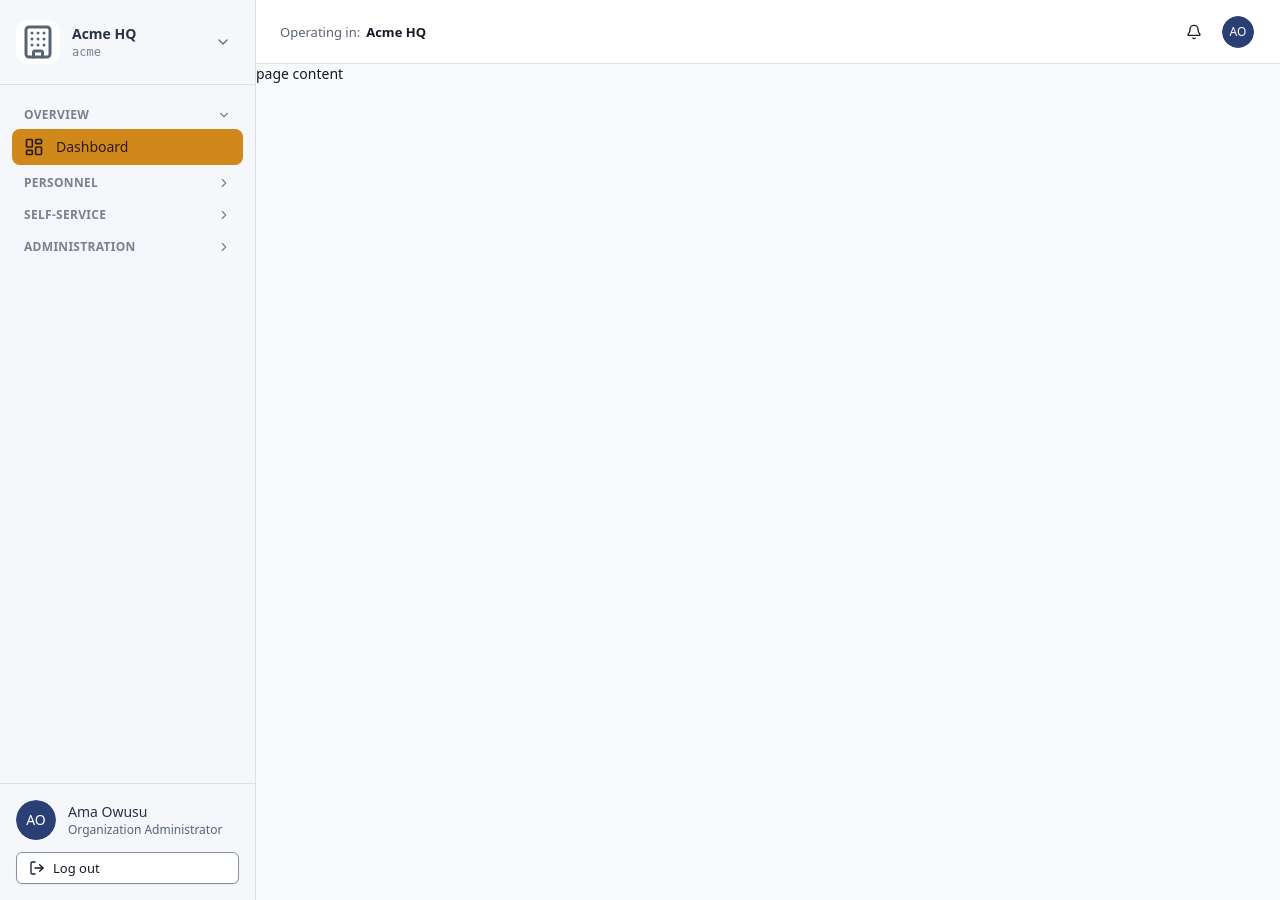
AppShell — sidebar/route authorization consistency (module-gated navigation) › keeps the WS-26 Forms navigation (not module-gated) intact
Step 1. Click the button with test id "button-nav-group-personnel" → (128, 183), box top-left (12, 169), bottom-right (243, 197)
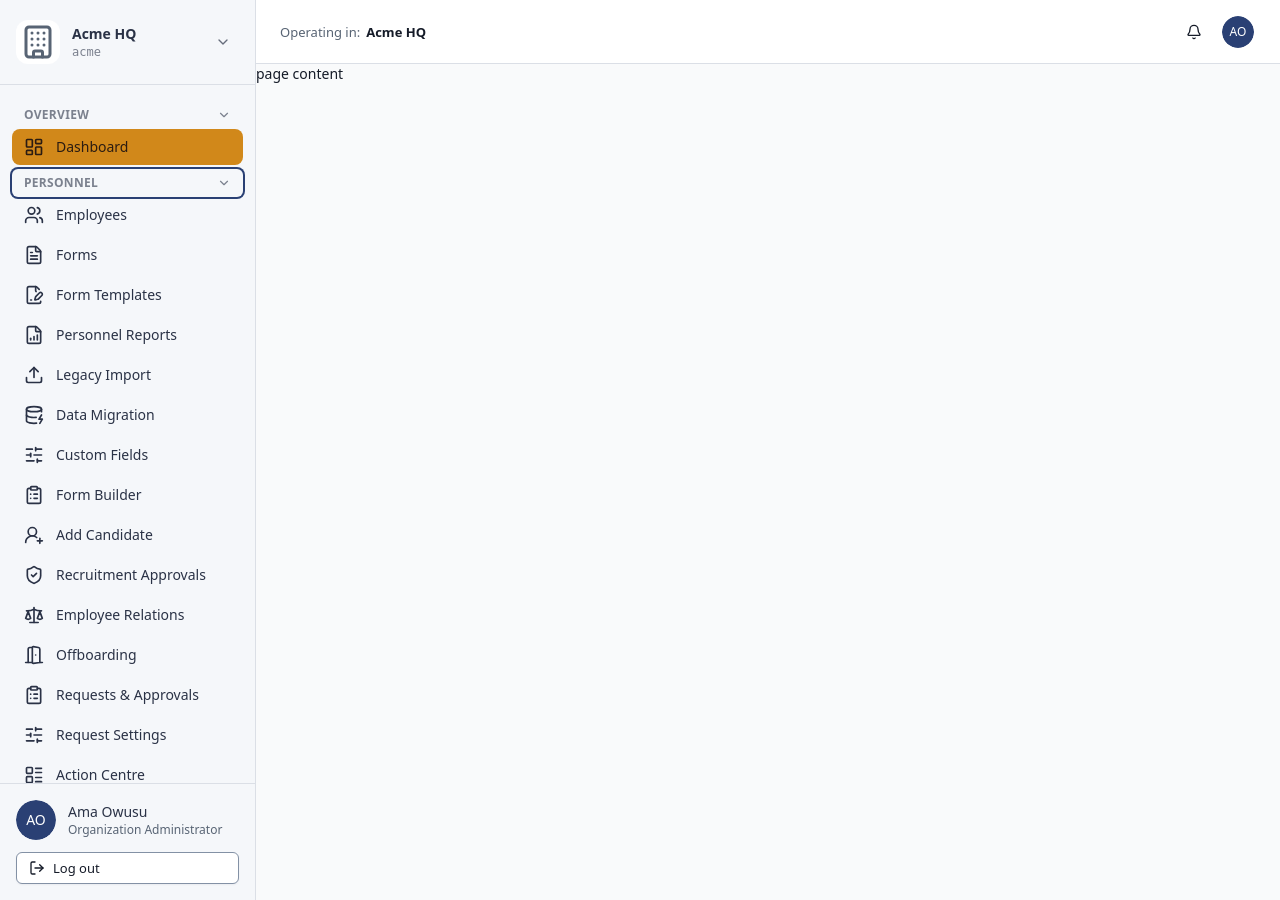
Check: the link "Forms" is shown, box top-left (24, 245), bottom-right (97, 265)
Check: the link "Form Templates" is shown, box top-left (24, 285), bottom-right (162, 305)
